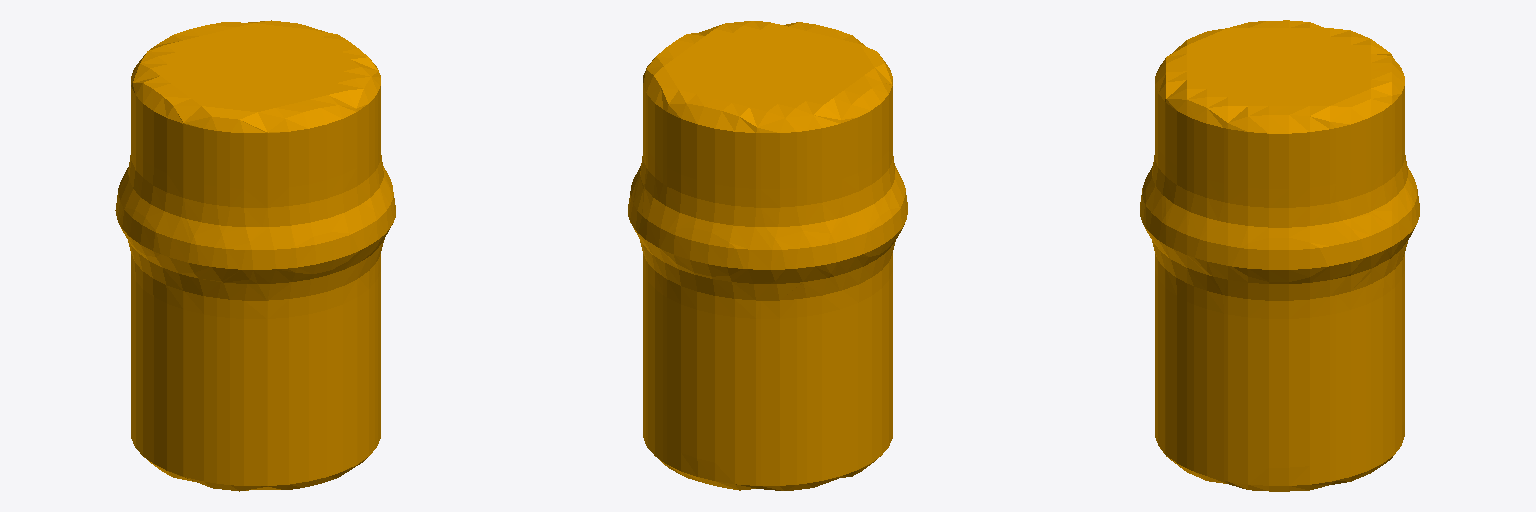
robot.urdf — cylinder_../../meshes/cylinders/cylinder_75.stl:
<?xml version="1.0" encoding="utf-8"?>  <robot name="cylinder_../../meshes/cylinders/cylinder_75.stl">   <link name="cylinder_../../meshes/cylinders/cylinder_75.stl">     <visual>       <geometry>         <mesh filename="../meshes/cylinders/cylinder_75.stl" scale="1 1 1"/>       </geometry>     </visual>     <collision>       <geometry>         <mesh filename="../meshes/cylinders/cylinder_75.stl" scale="1 1 1"/>       </geometry>     </collision>     <inertial>        <origin         xyz="0 0 0"         rpy="0 0 0" />       <mass value="0.3039719277622057"/>       <origin rpy="0 0 0" xyz="0 0 0"/>       <inertia ixx="0.00032520155302454847" ixy="-1.77254852290475e-08" ixz="2.019231439187999e-10" iyy="0.0003252016751024254" iyz="2.1995512111777444e-09" izz="0.0001455756887437929"/>     </inertial>   </link>  </robot>

--- Render facts (derived) ---
3 views of the same robot in one strip: view 1: azimuth 30°, elevation 25°; view 2: azimuth 150°, elevation 25°; view 3: azimuth 270°, elevation 25° (orthographic).
Robot: cylinder_../../meshes/cylinders/cylinder_75.stl — 1 links, 0 joints (none); root link cylinder_../../meshes/cylinders/cylinder_75.stl; default pose: every joint at zero.
Visible links, largest first — view 1: cylinder_../../meshes/cylinders/cylinder_75.stl; view 2: cylinder_../../meshes/cylinders/cylinder_75.stl; view 3: cylinder_../../meshes/cylinders/cylinder_75.stl.
Boxes of the visible links, x1,y1,x2,y2 form: cylinder_../../meshes/cylinders/cylinder_75.stl: (115,20,395,491); cylinder_../../meshes/cylinders/cylinder_75.stl: (628,21,907,490); cylinder_../../meshes/cylinders/cylinder_75.stl: (1140,20,1419,491).
Size in the robot's own frame: 0.0685 by 0.0685 by 0.1016 metres.
1 mesh visuals loaded from 1 distinct referenced files (1 binary STL).